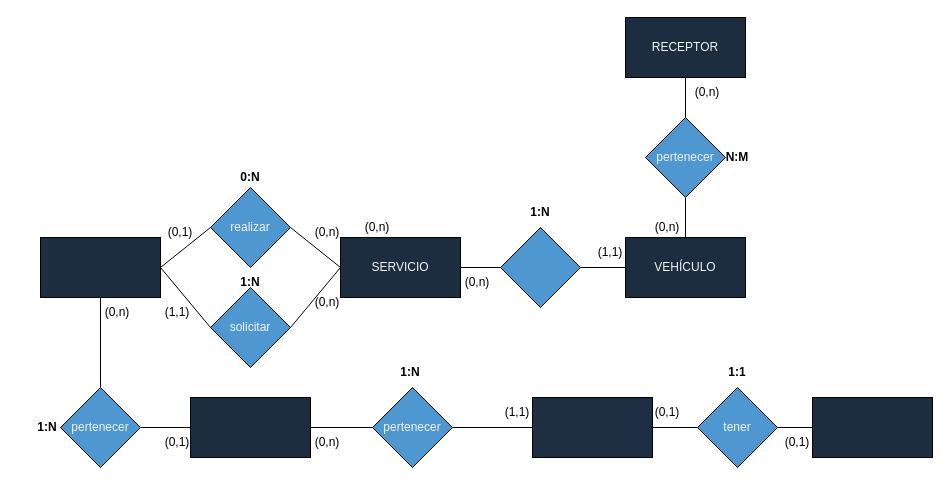
The diagram is 950 pixels wide and 485 high, and some of its shapes have lost their labels. The shapes that lost their labels are listed below. From the top down, each one's box as (x1, y1, x2, y2) in pixels, then its label:
(40, 236, 160, 298): USUARIO
(500, 226, 580, 308): corresponder
(190, 396, 310, 458): CENTRO
(532, 396, 652, 458): CLIENTE
(812, 396, 932, 458): TARIFA
